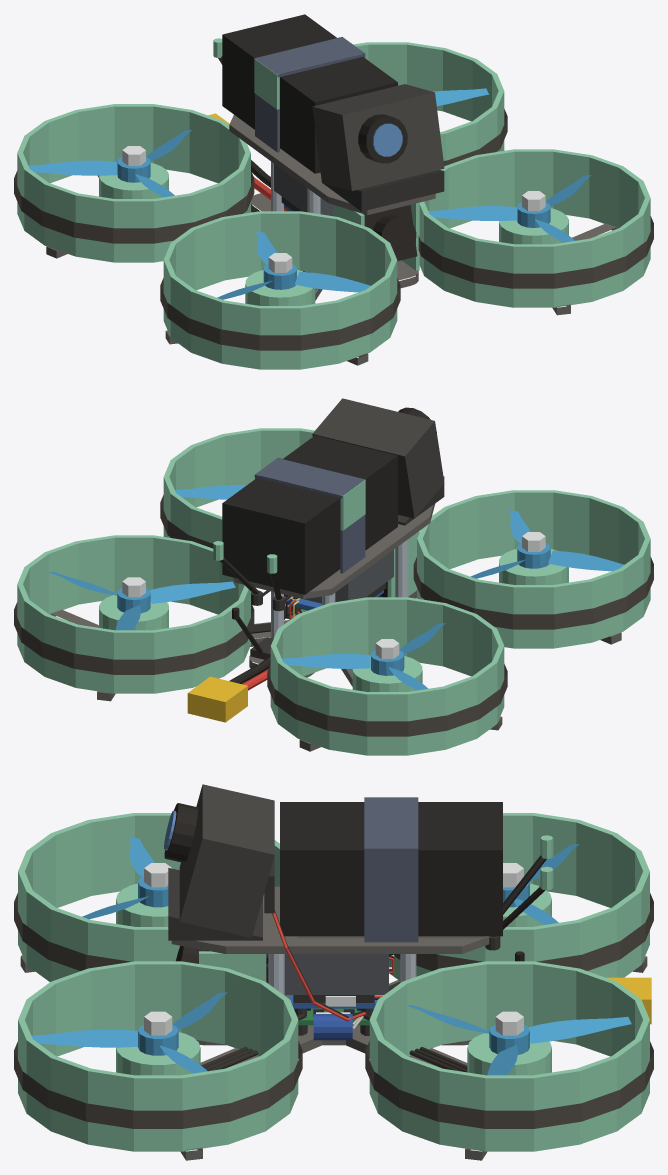
The model's file is cinewhoop.glb.
3 renders of one model, top to bottom at view 1: azimuth 30°, elevation 25°; view 2: azimuth 150°, elevation 25°; view 3: azimuth 270°, elevation 25°, orthographic. The views are drawn at different scales.
Parts seen in each view (by area): view 1: static, static.cover, prop:M1, prop:M4, prop:M2, prop:M3; view 2: static, static.cover, prop:M3, prop:M1, prop:M2, prop:M4; view 3: static, static.cover, prop:M4, prop:M3, prop:M2, prop:M1.
Part boxes in pixels (x1,y1,x2,y2): static: (14, 42, 653, 369); static.cover: (213, 14, 444, 215); prop:M1: (28, 130, 191, 197); prop:M4: (428, 175, 591, 242); prop:M2: (217, 231, 370, 299); prop:M3: (433, 88, 489, 106); static: (14, 428, 653, 755); static.cover: (213, 398, 444, 638); prop:M3: (48, 571, 235, 630); prop:M1: (282, 623, 445, 690); prop:M2: (471, 510, 624, 578); prop:M4: (175, 485, 246, 499); static: (14, 813, 653, 1160); static.cover: (164, 784, 553, 1021); prop:M4: (31, 992, 227, 1073); prop:M3: (407, 1005, 631, 1075); prop:M2: (82, 836, 154, 919); prop:M1: (514, 844, 579, 924).
Size of the model in its own units: 0.1881 by 0.0708 by 0.1894.
